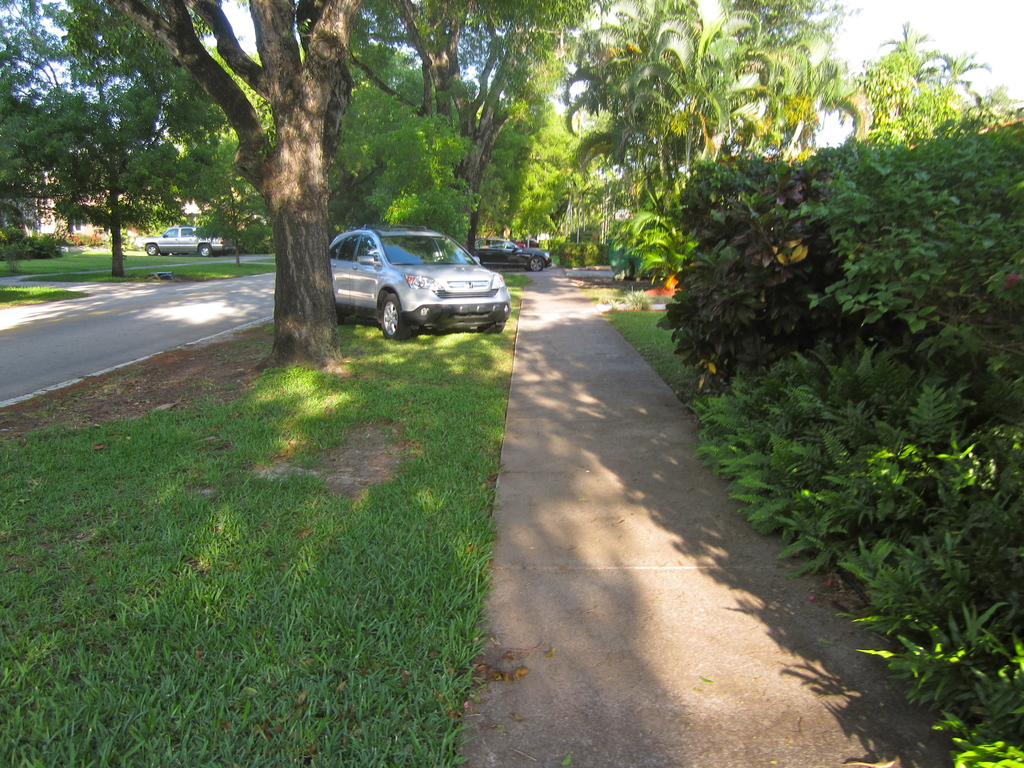Car: (325, 222, 504, 335), (472, 238, 551, 277), (136, 225, 234, 254), (518, 236, 547, 246)
